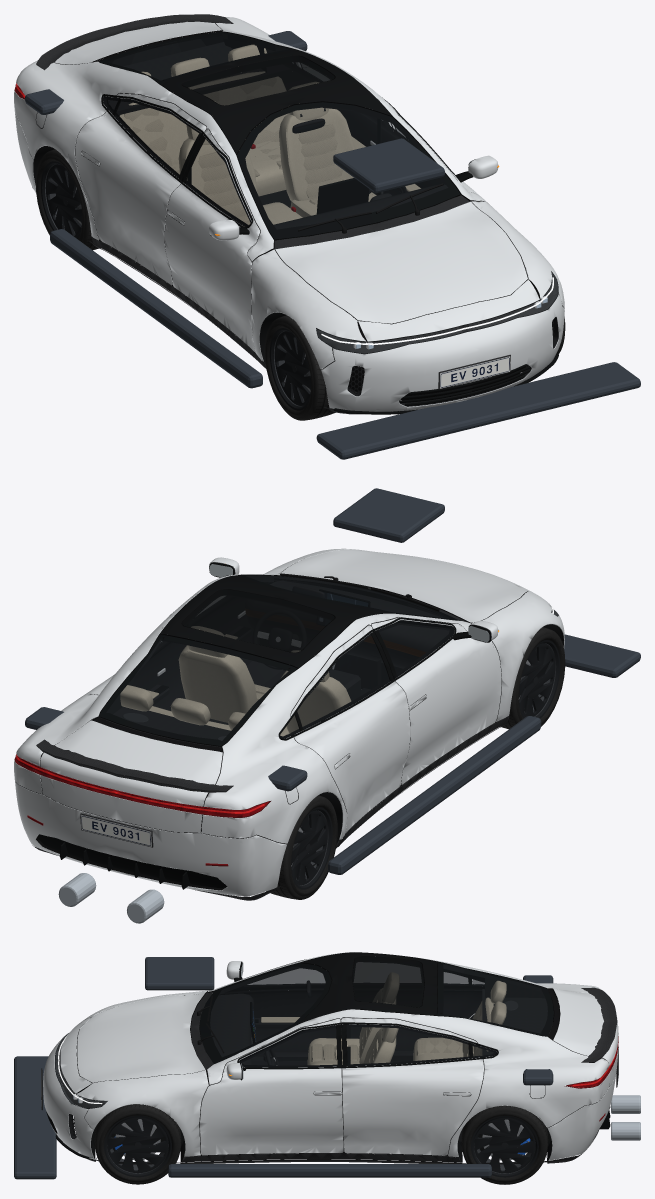
The model's file is car_samuray_r26.glb.
3 renders of one model, top to bottom at view 1: azimuth 30°, elevation 25°; view 2: azimuth 150°, elevation 25°; view 3: azimuth 270°, elevation 25°, orthographic. The views are drawn at different scales.
Visible parts, largest first — view 1: Body, Mod_Splitter, Mod_Skirt_-1, Wheel_FR, Mod_Hood, Wheel_RR, Mod_Wing; view 2: Body, Mod_Skirt_-1, Wheel_RR, Wheel_FR, Mod_Hood, Mod_Splitter, Mod_Wing, Steering_Wheel, Mod_Exhaust_-1, Mod_Exhaust_1; view 3: Body, Wheel_FL, Wheel_RL, Mod_Skirt_1, Mod_Splitter, Mod_Hood, Mod_Wing, Mod_Exhaust_1, Mod_Exhaust_-1.
Part boxes in pixels (x1,y1,x2,y2): Body: [14, 14, 564, 414]; Mod_Splitter: [316, 362, 640, 459]; Mod_Skirt_-1: [50, 229, 262, 388]; Wheel_FR: [264, 315, 335, 420]; Mod_Hood: [333, 138, 444, 192]; Wheel_RR: [35, 149, 100, 250]; Mod_Wing: [25, 31, 307, 114]; Body: [14, 548, 564, 900]; Mod_Skirt_-1: [328, 716, 541, 874]; Wheel_RR: [266, 795, 337, 899]; Wheel_FR: [500, 627, 565, 729]; Mod_Hood: [333, 488, 444, 542]; Mod_Splitter: [564, 634, 640, 677]; Mod_Wing: [25, 707, 307, 791]; Steering_Wheel: [253, 610, 306, 669]; Mod_Exhaust_-1: [127, 889, 164, 923]; Mod_Exhaust_1: [58, 873, 96, 906]; Body: [41, 952, 618, 1164]; Wheel_FL: [94, 1104, 181, 1184]; Wheel_RL: [461, 1105, 548, 1184]; Mod_Skirt_1: [168, 1164, 491, 1177]; Mod_Splitter: [14, 1056, 56, 1179]; Mod_Hood: [145, 957, 214, 990]; Mod_Wing: [523, 975, 553, 1085]; Mod_Exhaust_1: [611, 1122, 640, 1140]; Mod_Exhaust_-1: [611, 1095, 640, 1113].
Bounding box in the file's own units: 2.22 × 1.47 × 4.99.
Materials: 63 (13 with a texture image).
